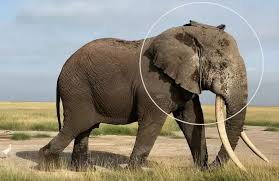Elephant: (37, 18, 270, 173)
